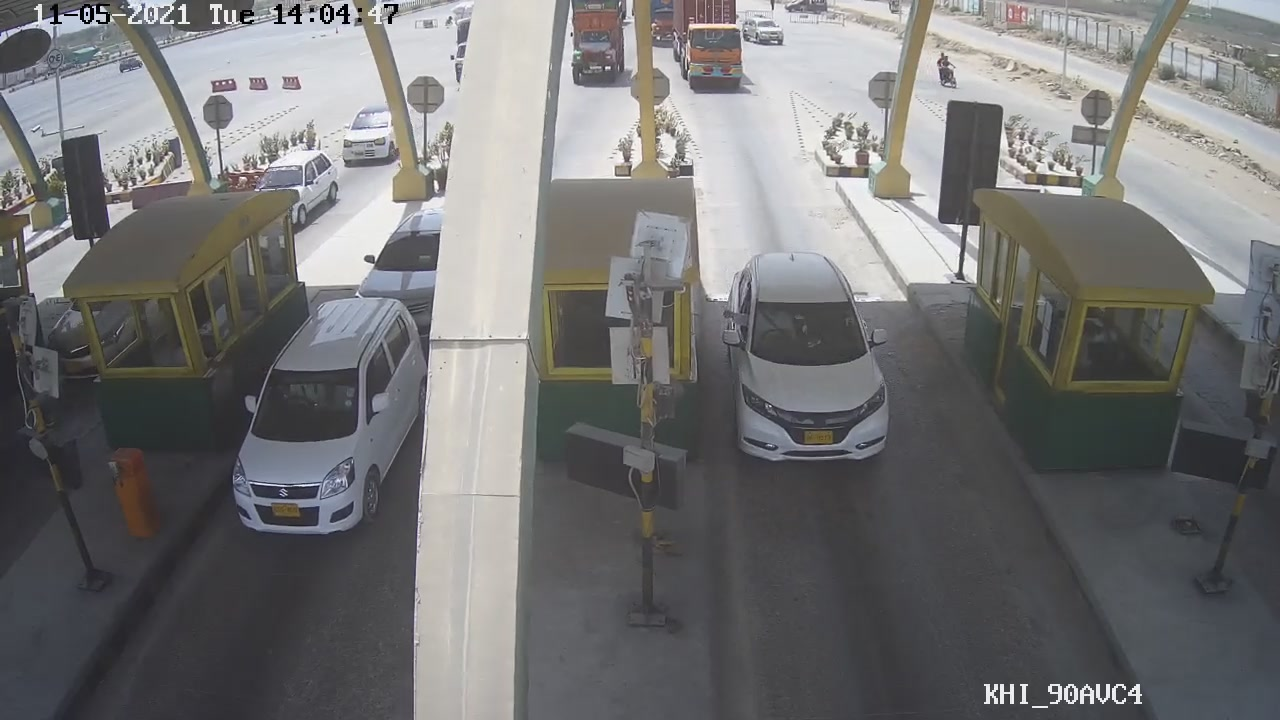F1: (718, 253, 900, 468)
